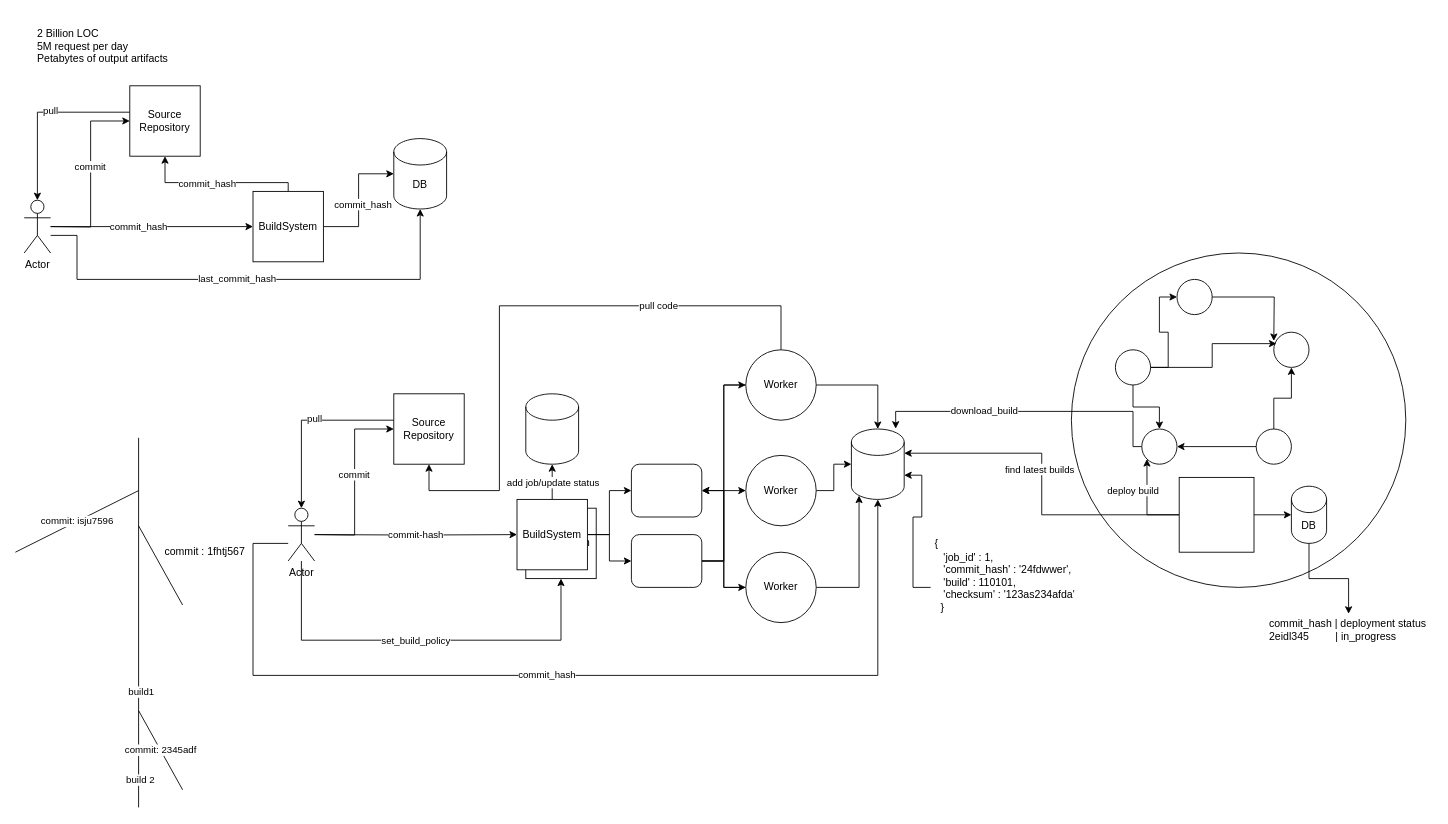
Image size: 1448x824. Some labels were removed from this diagram. Each missing label, with the centre of its shape:
Deployment Service: the point at 1216,514
Metadata DB: the point at 552,428
object store: the point at 877,463
Queue Service Job Request: the point at 666,560
Queue Service Job Status running/completed: the point at 666,490
